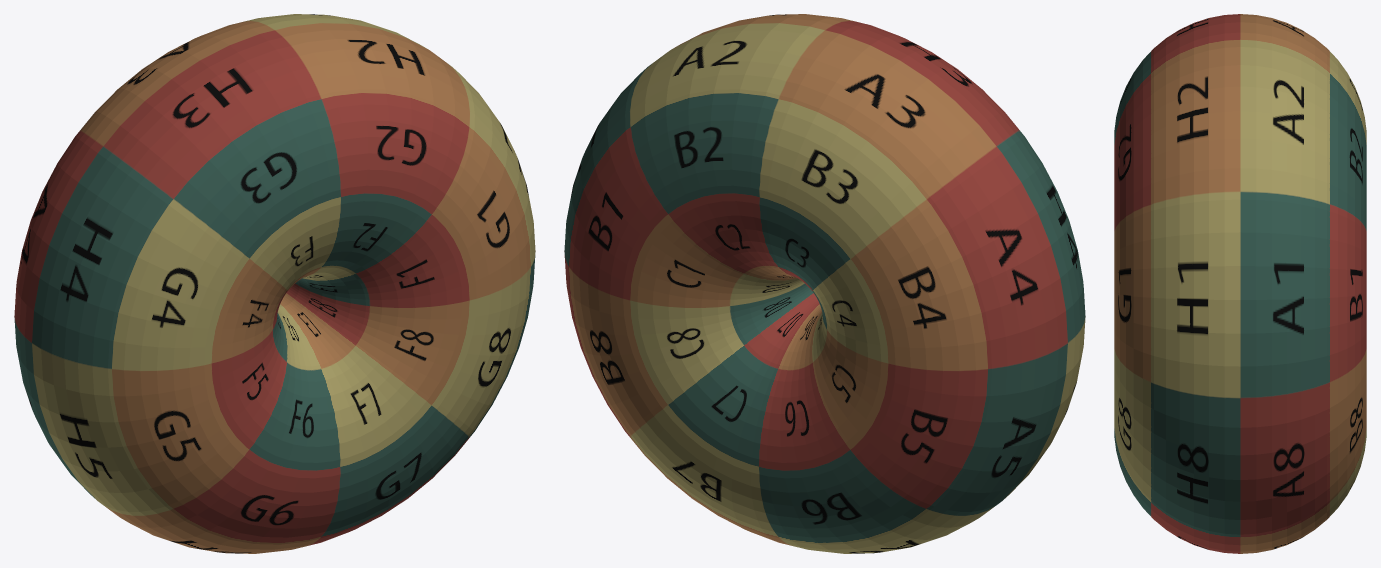
Rendered from texture_torus_R2_r30.glb.
3 views of the same model, side by side, from view 1: azimuth 30°, elevation 25°; view 2: azimuth 150°, elevation 25°; view 3: azimuth 270°, elevation 25° (orthographic). The views are drawn at different scales.
Parts seen in each view (by area): view 1: world; view 2: world; view 3: world.
Boxes of the visible parts, x1=… form: world: x1=14, y1=14, x2=535, y2=553; world: x1=564, y1=14, x2=1085, y2=553; world: x1=1114, y1=14, x2=1366, y2=553.
Bounding box in the file's own units: 21.33 × 21.29 × 9.98.
1 material, 1 textured.
